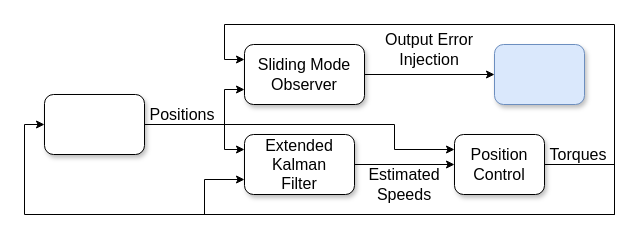
This 640x240 diagram has some shape labels left out. Here are the shapes that lost their labels. From the top down, the centre of each, then its label:
At point (540, 76): "Weight Estimation".
At point (95, 126): "Real Manipulator".
